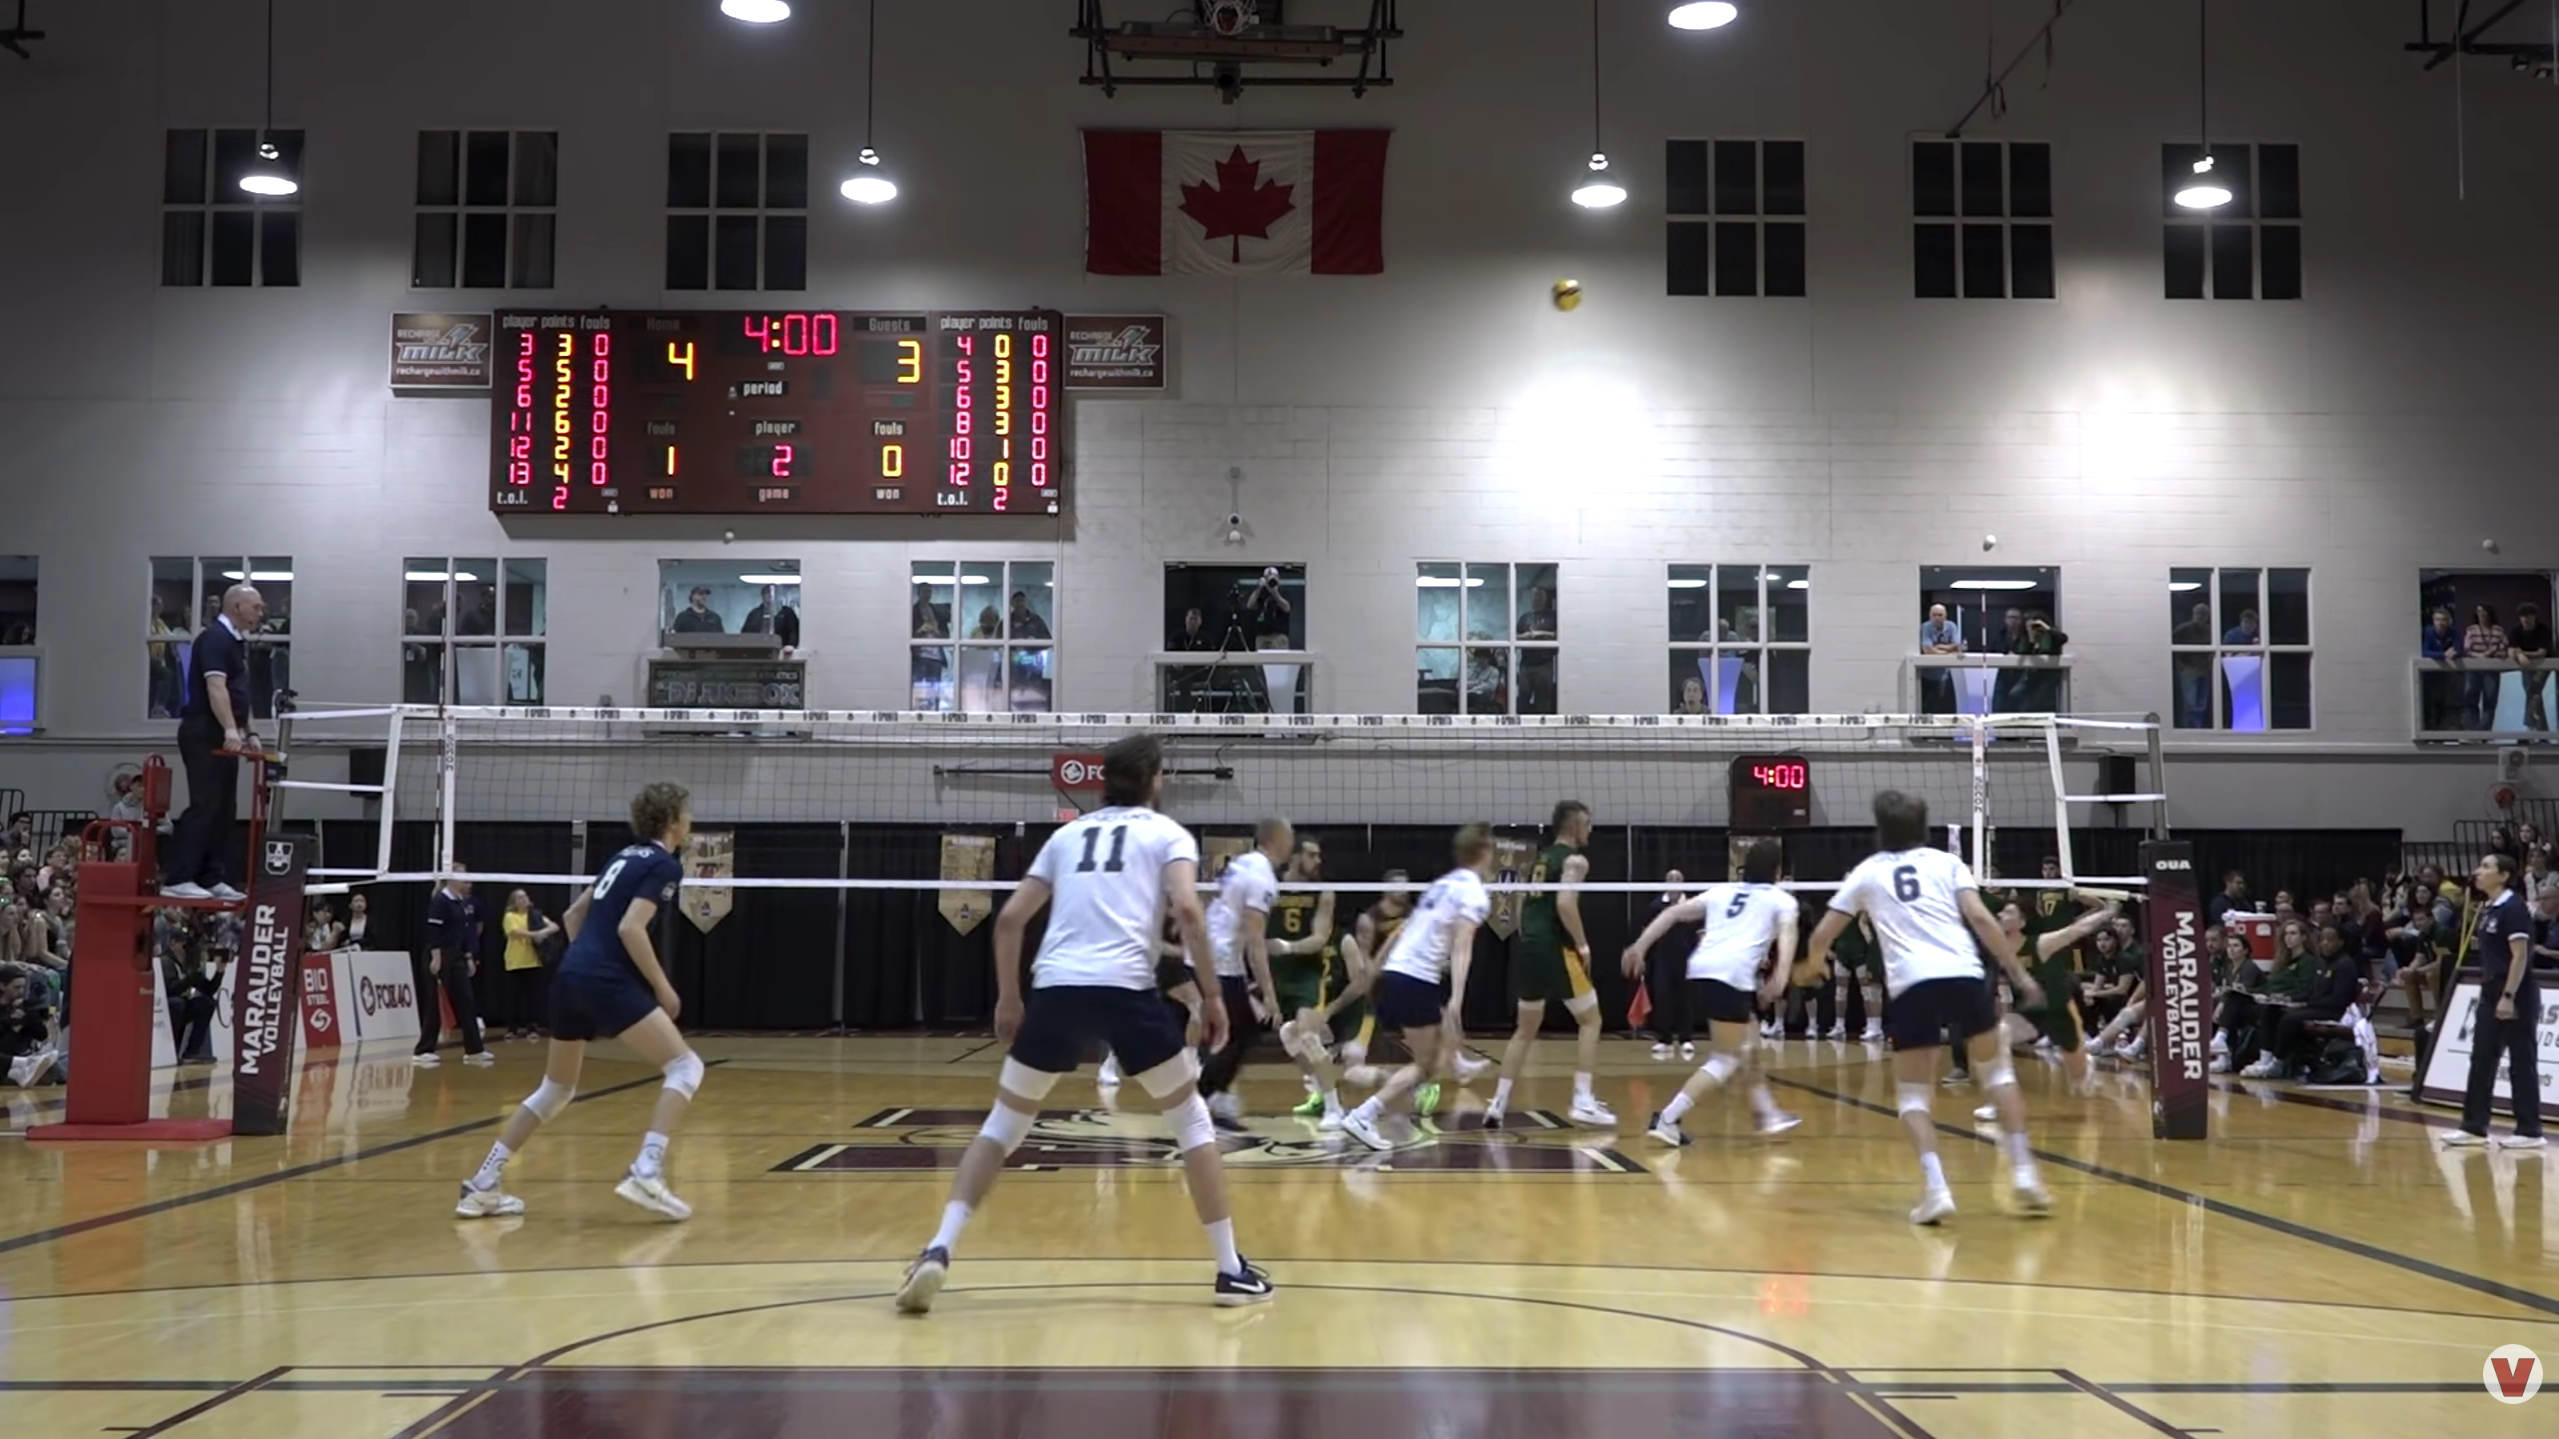Ball: (1548, 276, 1585, 315)
